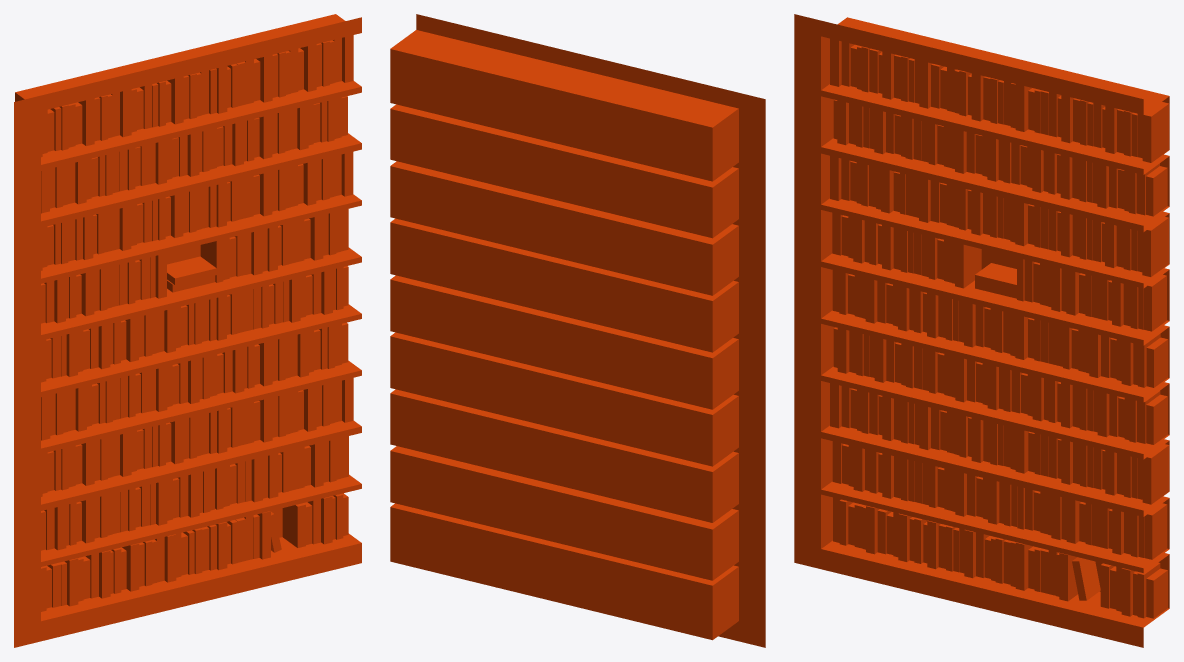
The model's file is modular bookshelf left.fbx.
3 views of the same model, side by side, from view 1: azimuth 30°, elevation 25°; view 2: azimuth 150°, elevation 25°; view 3: azimuth 330°, elevation 25° (orthographic).
Visible parts, largest first — view 1: book727; view 2: book727; view 3: book727.
Part boxes in pixels (x1,y1,x2,y2): book727: [14, 14, 361, 647]; book727: [390, 14, 765, 647]; book727: [794, 14, 1169, 647].
Size of the model in its own units: 200 by 300 by 25.87.
